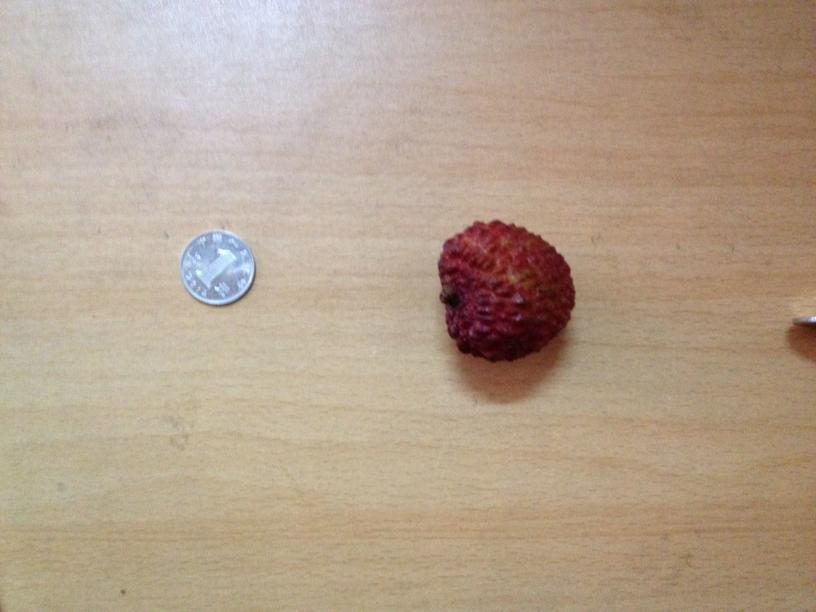coin: (179, 233, 254, 305)
litchi: (431, 224, 575, 363)
